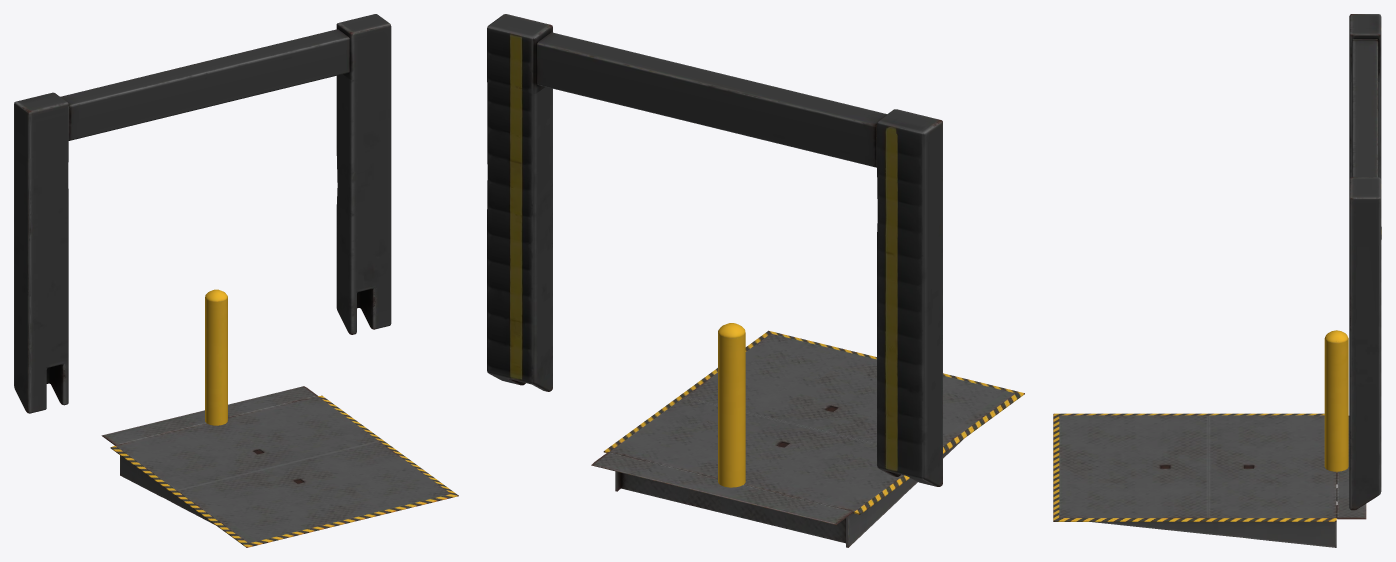
Rendered from leveller.glb.
3 renders of one model, left to right at view 1: azimuth 30°, elevation 25°; view 2: azimuth 150°, elevation 25°; view 3: azimuth 270°, elevation 25°, orthographic. The views are drawn at different scales.
Parts seen in each view (by area): view 1: Surrounds, Lift_Main, Bollard, Lift_Lip; view 2: Surrounds, Lift_Main, Bollard, Lift_Lip; view 3: Lift_Main, Surrounds, Bollard, Lift_Lip.
Part boxes in pixels (bbox=[...]): Surrounds: bbox=[14, 14, 458, 547]; Lift_Main: bbox=[115, 396, 450, 543]; Bollard: bbox=[205, 289, 227, 425]; Lift_Lip: bbox=[101, 386, 317, 445]; Surrounds: bbox=[487, 14, 1024, 514]; Lift_Main: bbox=[609, 333, 1015, 547]; Bollard: bbox=[718, 323, 745, 487]; Lift_Lip: bbox=[591, 452, 852, 524]; Lift_Main: bbox=[1059, 415, 1337, 547]; Surrounds: bbox=[1053, 14, 1381, 521]; Bollard: bbox=[1324, 330, 1348, 472]; Lift_Lip: bbox=[1336, 416, 1366, 519].
Bounding box in the file's own units: 3.77 × 3.76 × 2.84.
1 material, 1 textured.
